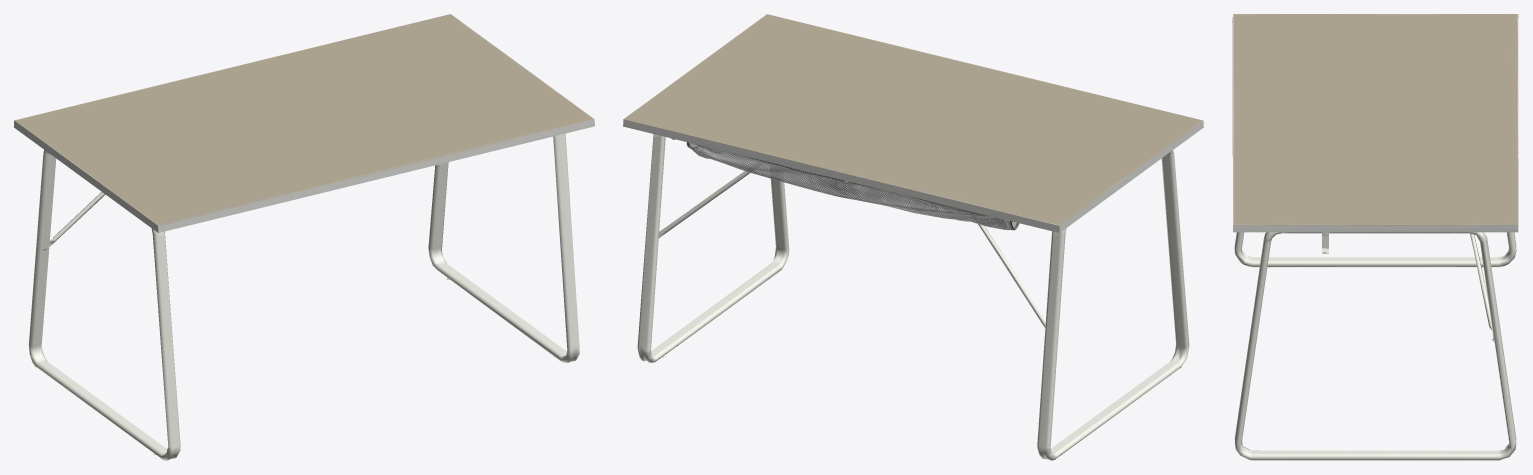
Rendered from HUVUDSPELARE_70539167.glb.
The picture shows the model from 3 angles, left to right: view 1: azimuth 30°, elevation 25°; view 2: azimuth 150°, elevation 25°; view 3: azimuth 270°, elevation 25°; orthographic projection.
Visible parts, largest first — view 1: model; view 2: model; view 3: model.
Boxes of the visible parts, x1,y1,x2,y2 form: model: [14, 14, 594, 460]; model: [623, 14, 1203, 460]; model: [1232, 14, 1518, 460].
Size of the model in its own units: 1.4 by 0.752 by 0.8001.
Materials: 2 (2 with a texture image).
